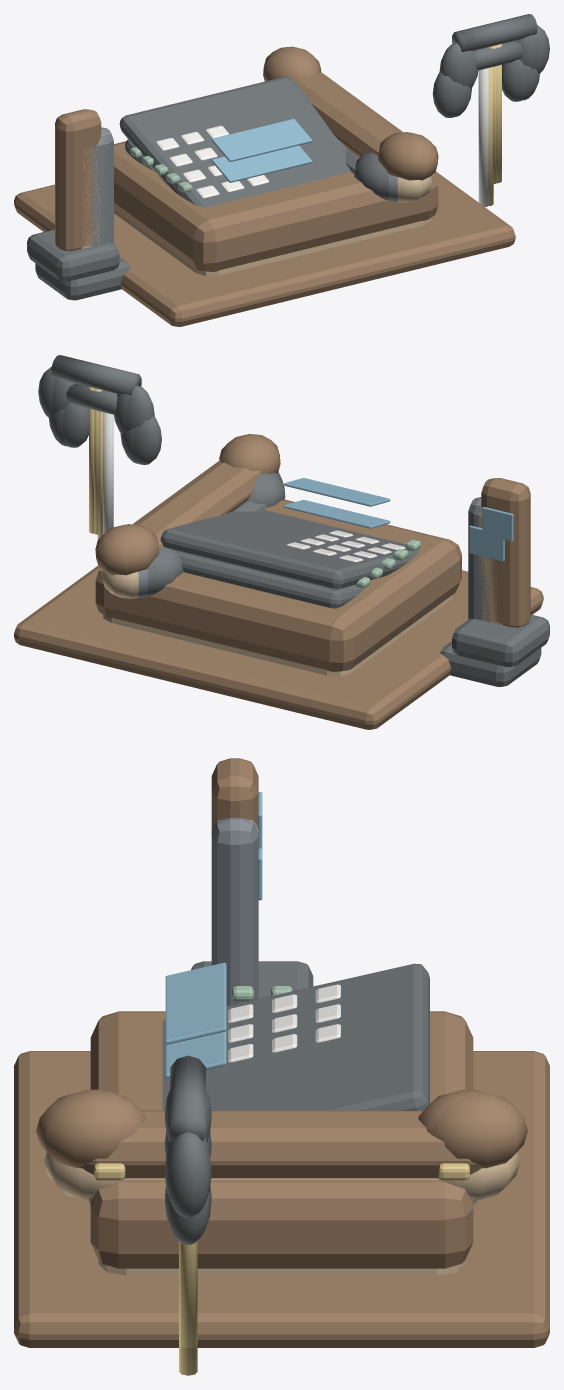
Rendered from Gear04.fbx.
3 renders of one model, top to bottom at view 1: azimuth 30°, elevation 25°; view 2: azimuth 150°, elevation 25°; view 3: azimuth 270°, elevation 25°, orthographic. The views are drawn at different scales.
Visible parts, largest first — view 1: Gear04_V10_Walnut, Gear04_V10_Charcoal, Gear04_V9_Walnut, Gear04_V9_Charcoal, Gear04_V7_Charcoal, Gear04_V8_Oak, Gear04_V6_Graphite, Gear04_V10_ScreenUI, Gear04_V8_Charcoal, Gear04_V10_Quartz, Gear04_V3_ScreenUI, Gear04_V7_Chrome (+7 smaller); view 2: Gear04_V10_Walnut, Gear04_V9_Walnut, Gear04_V10_Charcoal, Gear04_V9_Charcoal, Gear04_V8_Charcoal, Gear04_V7_Charcoal, Gear04_V8_Oak, Gear04_V1_Charcoal, Gear04_V10_ScreenUI, Gear04_V6_Graphite, Gear04_V10_Quartz, Gear04_V7_Chrome (+8 smaller); view 3: Gear04_V10_Walnut, Gear04_V9_Walnut, Gear04_V10_Charcoal, Gear04_V9_Charcoal, Gear04_V6_Graphite, Gear04_V8_Oak, Gear04_V10_ScreenUI, Gear04_V10_Quartz, Gear04_V10_Brass, Gear04_V3_ScreenUI, Gear04_V8_Charcoal.
Part boxes in pixels (bbox=[...]): Gear04_V10_Walnut: bbox=[14, 46, 515, 326]; Gear04_V10_Charcoal: bbox=[27, 14, 549, 281]; Gear04_V9_Walnut: bbox=[29, 50, 409, 299]; Gear04_V9_Charcoal: bbox=[40, 16, 536, 280]; Gear04_V7_Charcoal: bbox=[81, 40, 526, 298]; Gear04_V8_Oak: bbox=[81, 148, 432, 276]; Gear04_V6_Graphite: bbox=[91, 127, 397, 246]; Gear04_V10_ScreenUI: bbox=[211, 119, 312, 161]; Gear04_V8_Charcoal: bbox=[35, 49, 539, 300]; Gear04_V10_Quartz: bbox=[156, 125, 268, 198]; Gear04_V3_ScreenUI: bbox=[211, 145, 312, 182]; Gear04_V7_Chrome: bbox=[478, 68, 488, 206]; Gear04_V10_Walnut: bbox=[14, 434, 543, 729]; Gear04_V9_Walnut: bbox=[29, 438, 513, 705]; Gear04_V10_Charcoal: bbox=[38, 355, 549, 667]; Gear04_V9_Charcoal: bbox=[52, 356, 536, 663]; Gear04_V8_Charcoal: bbox=[49, 383, 541, 686]; Gear04_V7_Charcoal: bbox=[63, 383, 492, 685]; Gear04_V8_Oak: bbox=[101, 557, 502, 676]; Gear04_V1_Charcoal: bbox=[153, 473, 285, 594]; Gear04_V10_ScreenUI: bbox=[284, 478, 513, 541]; Gear04_V6_Graphite: bbox=[138, 472, 490, 622]; Gear04_V10_Quartz: bbox=[286, 530, 405, 561]; Gear04_V7_Chrome: bbox=[103, 412, 113, 534]; Gear04_V10_Walnut: bbox=[14, 758, 549, 1347]; Gear04_V9_Walnut: bbox=[35, 762, 527, 1310]; Gear04_V10_Charcoal: bbox=[162, 961, 429, 1218]; Gear04_V9_Charcoal: bbox=[164, 965, 410, 1171]; Gear04_V6_Graphite: bbox=[211, 818, 258, 1005]; Gear04_V8_Oak: bbox=[43, 827, 520, 1275]; Gear04_V10_ScreenUI: bbox=[165, 792, 262, 1044]; Gear04_V10_Quartz: bbox=[228, 984, 340, 1062]; Gear04_V10_Brass: bbox=[94, 1163, 469, 1348]; Gear04_V3_ScreenUI: bbox=[165, 1030, 226, 1078]; Gear04_V8_Charcoal: bbox=[164, 1133, 211, 1244].
Bounding box in the file's own units: 58.69 × 20.6 × 34.3.
